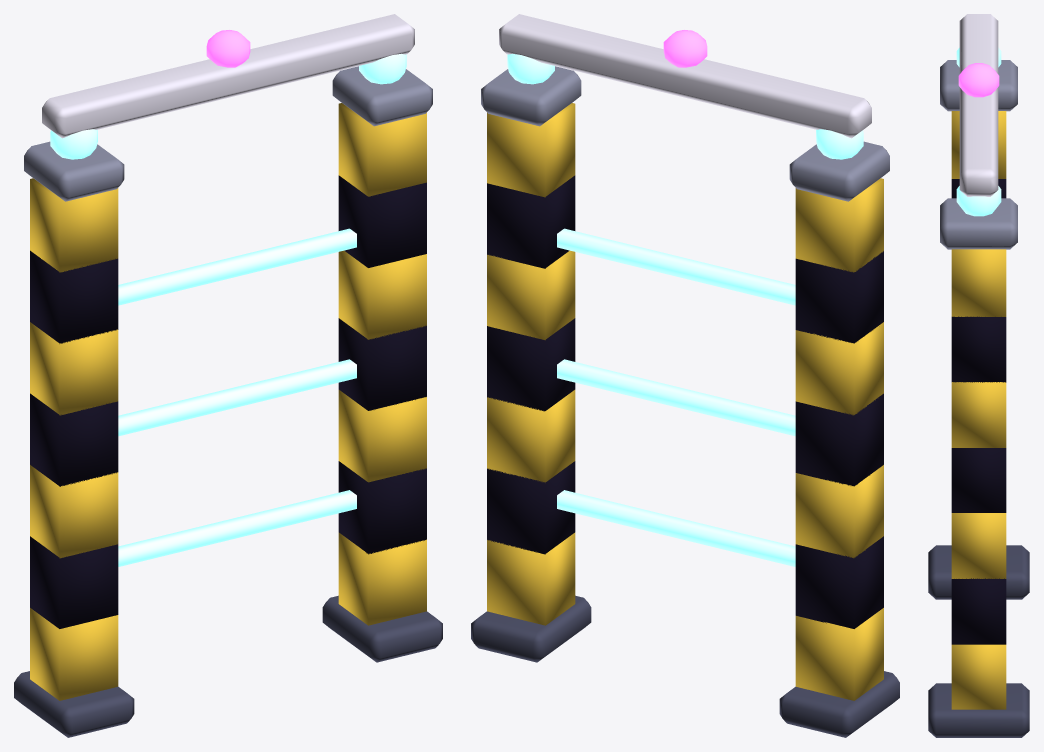
The model's file is gym_gate.glb.
3 renders of one model, left to right at view 1: azimuth 30°, elevation 25°; view 2: azimuth 150°, elevation 25°; view 3: azimuth 270°, elevation 25°, orthographic. The views are drawn at different scales.
Parts seen in each view (by area): view 1: Gate; view 2: Gate; view 3: Gate.
Boxes of the visible parts, <box> form: Gate: <box>14,14,442,737</box>; Gate: <box>471,14,899,737</box>; Gate: <box>928,14,1029,737</box>.
Bounding box in the file's own units: 1.04 × 1.67 × 0.26.
